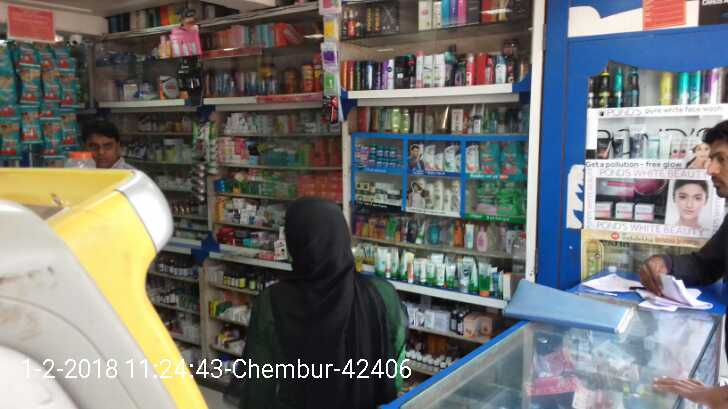vicks: (366, 144, 404, 170)
